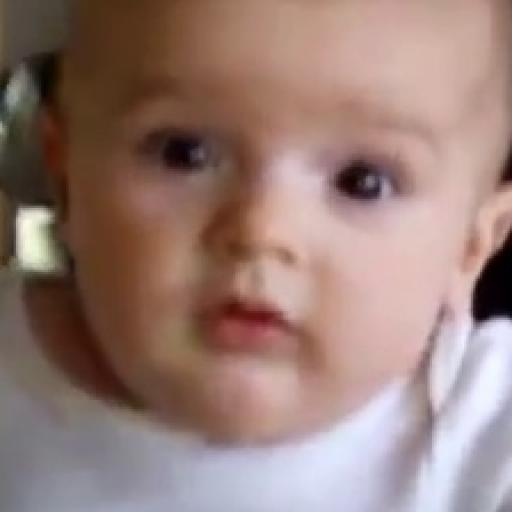Autism: (27, 23, 512, 512)
